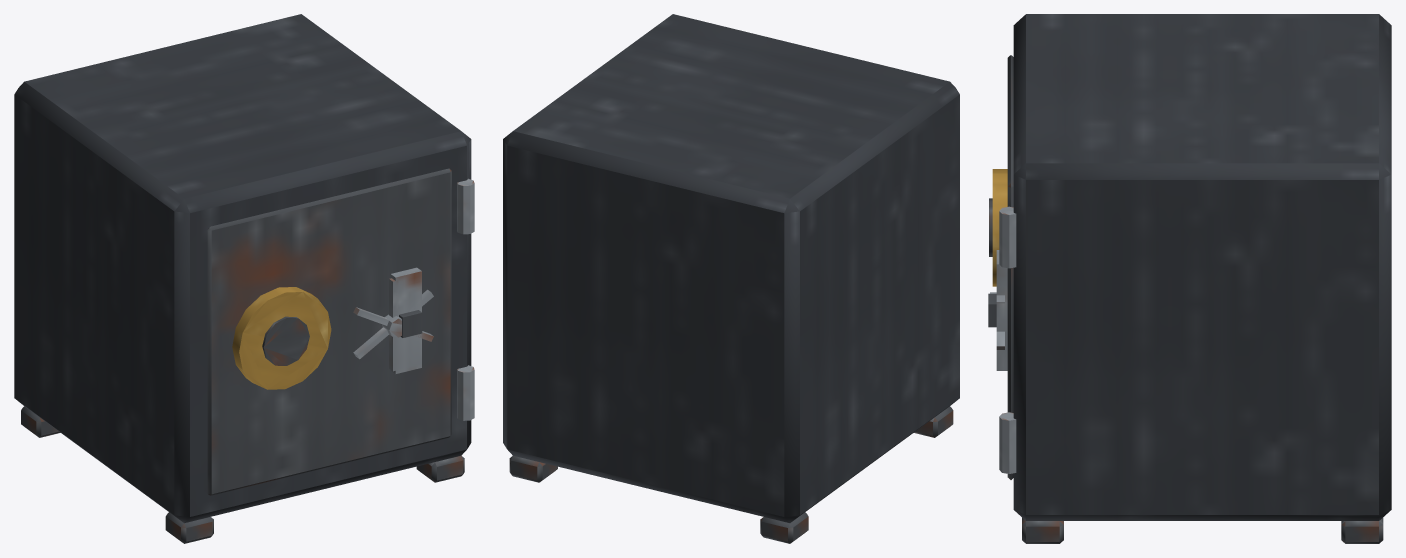
The model's file is SM_SurvivalSafe.fbx.
3 renders of one model, left to right at view 1: azimuth 30°, elevation 25°; view 2: azimuth 150°, elevation 25°; view 3: azimuth 270°, elevation 25°, orthographic. The views are drawn at different scales.
Parts seen in each view (by area): view 1: SM_SurvivalSafe; view 2: SM_SurvivalSafe; view 3: SM_SurvivalSafe.
Boxes of the visible parts, bbox=[...] form: SM_SurvivalSafe: bbox=[14, 14, 474, 543]; SM_SurvivalSafe: bbox=[503, 14, 959, 543]; SM_SurvivalSafe: bbox=[988, 14, 1391, 543].
Bounding box in the file's own units: 4.5 × 5 × 4.8.
1 material, 1 textured.
